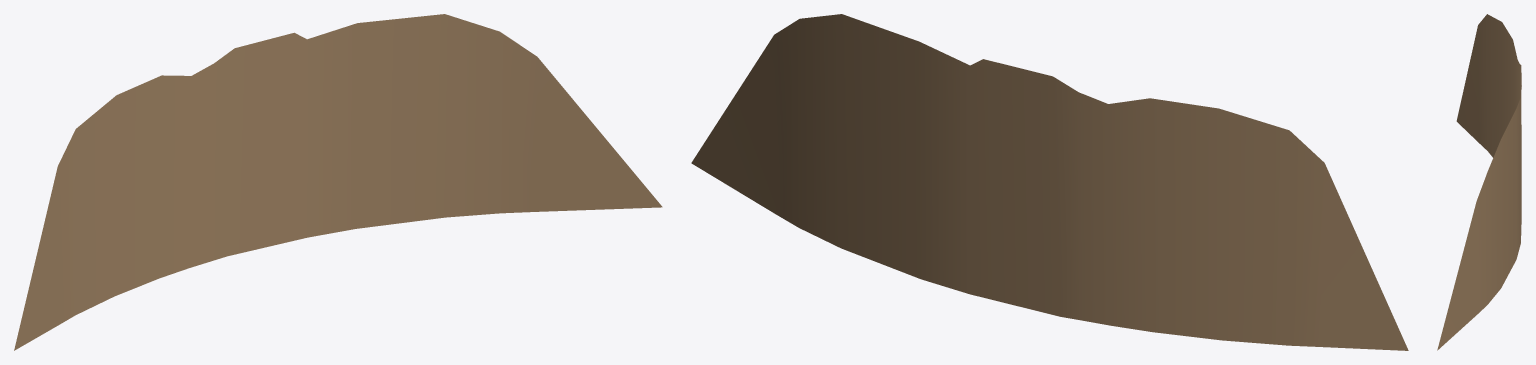
The model's file is background_4.fbx.
3 renders of one model, left to right at view 1: azimuth 30°, elevation 25°; view 2: azimuth 150°, elevation 25°; view 3: azimuth 270°, elevation 25°, orthographic. The views are drawn at different scales.
Parts seen in each view (by area): view 1: SM_Env_BackgroundCard_01; view 2: SM_Env_BackgroundCard_01; view 3: SM_Env_BackgroundCard_01.
Part boxes in pixels (x1=…): SM_Env_BackgroundCard_01: x1=14, y1=14, x2=662, y2=350; SM_Env_BackgroundCard_01: x1=691, y1=14, x2=1408, y2=350; SM_Env_BackgroundCard_01: x1=1437, y1=14, x2=1521, y2=350.
Bounding box in the file's own units: 2745 × 860 × 431.
Materials: 1 (1 with a texture image).
